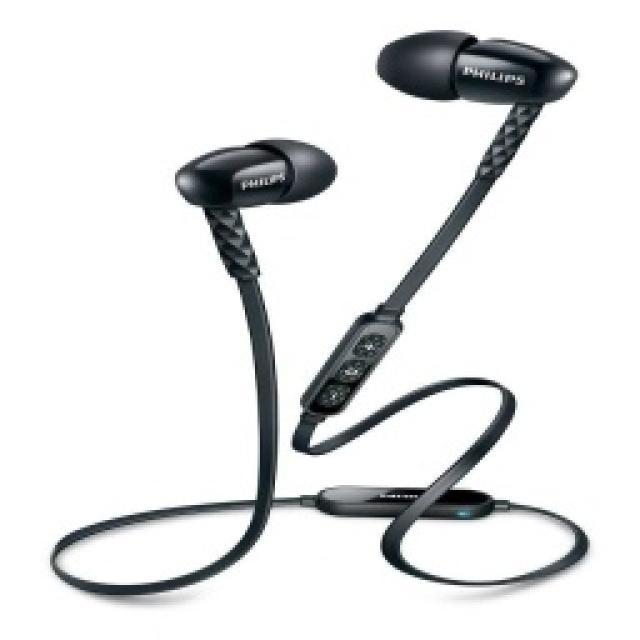headphones: (48, 25, 590, 595)
